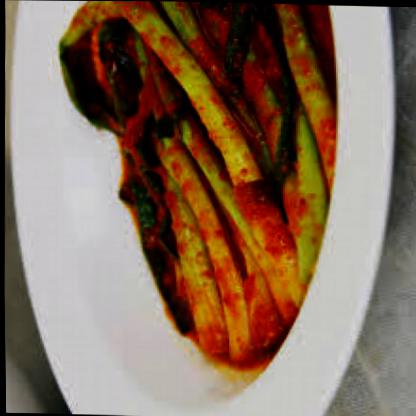green onion Kimchi: (60, 0, 345, 355)
